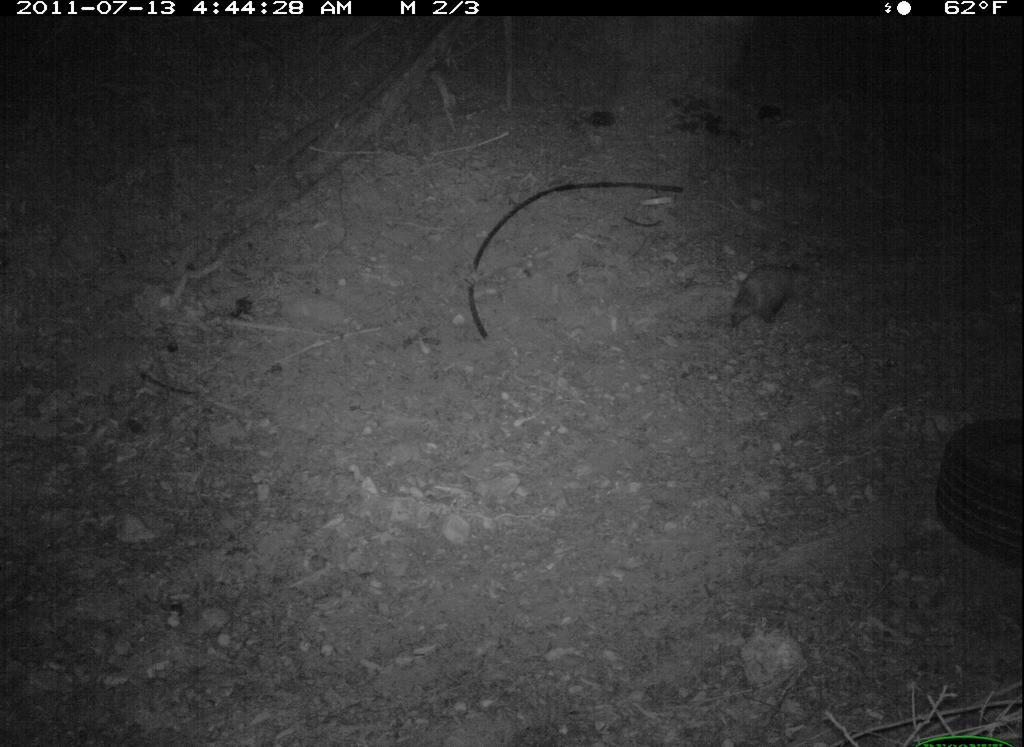opossum: (721, 254, 813, 340)
